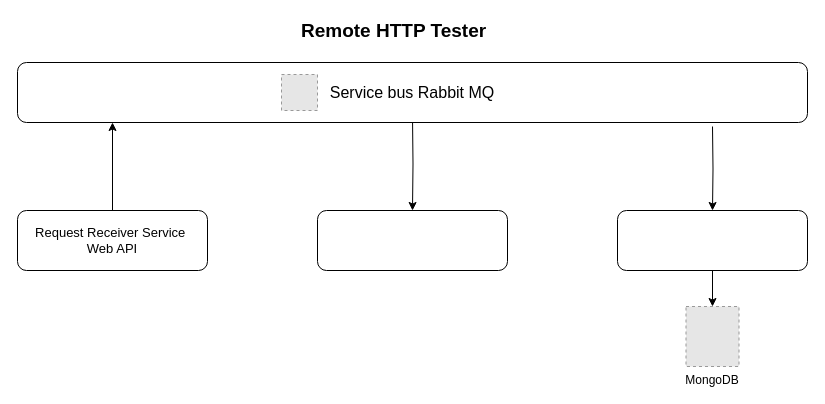
Image size: 825x404. Some labels were removed from this diagram. Grey dashed boxes stand in for pictures. The shapes that lost their labels are listed below. From the top down, each one's centre as x and y in pixels, then its label:
At (412,240): "Requests Executor Service".
At (712,240): "Statistics Service Web API CQRS".
